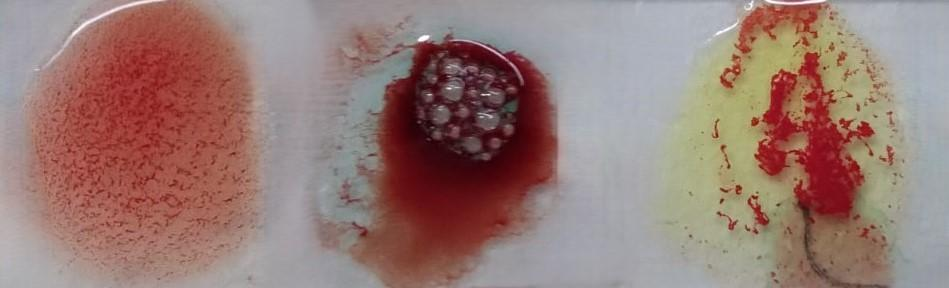A: (332, 23, 547, 288)
B: (703, 5, 897, 288)
D: (35, 11, 251, 288)
